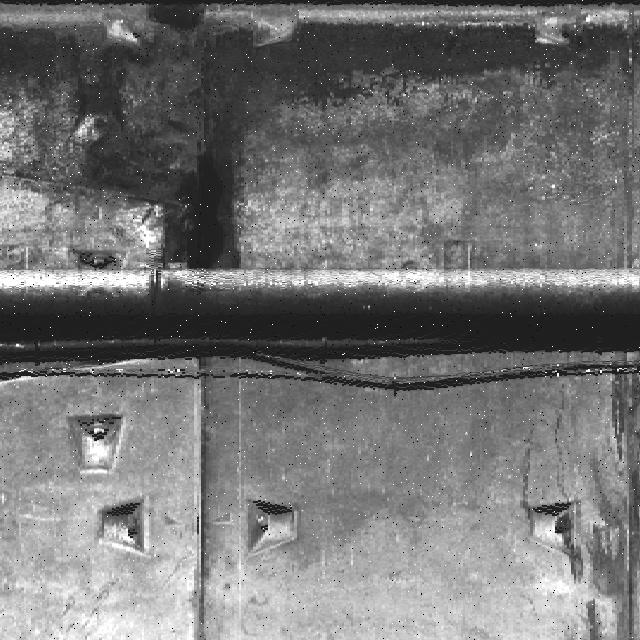leakage: (0, 1, 269, 264), (274, 3, 635, 104), (580, 371, 639, 639)
